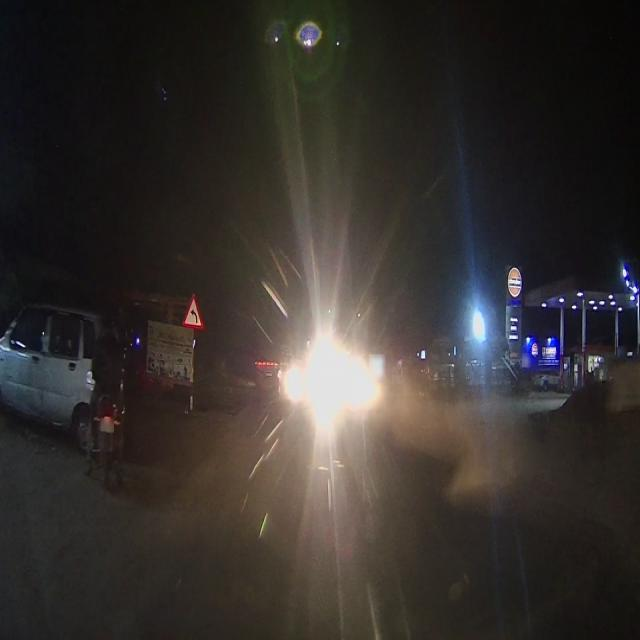left-hand-curve: (182, 294, 202, 330)
